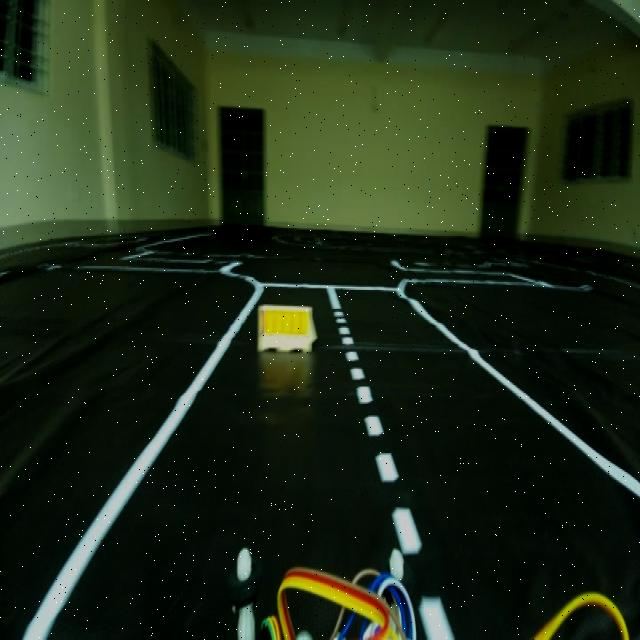roadblock: (257, 290, 323, 360)
